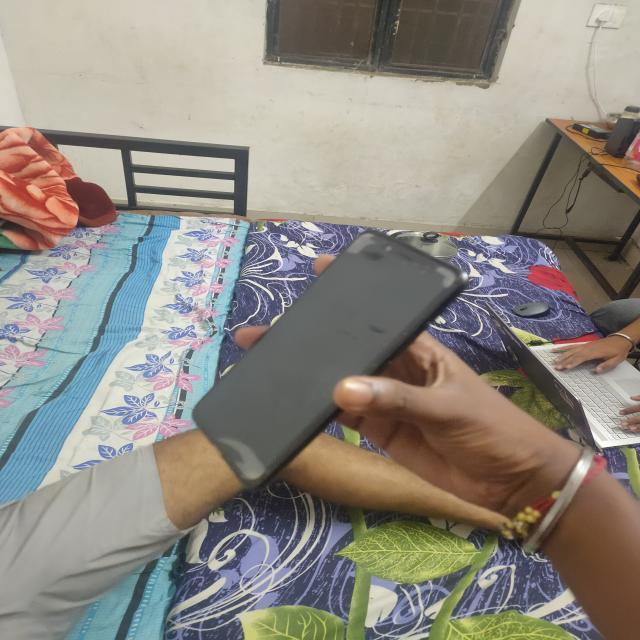Phone: (190, 228, 468, 492)
